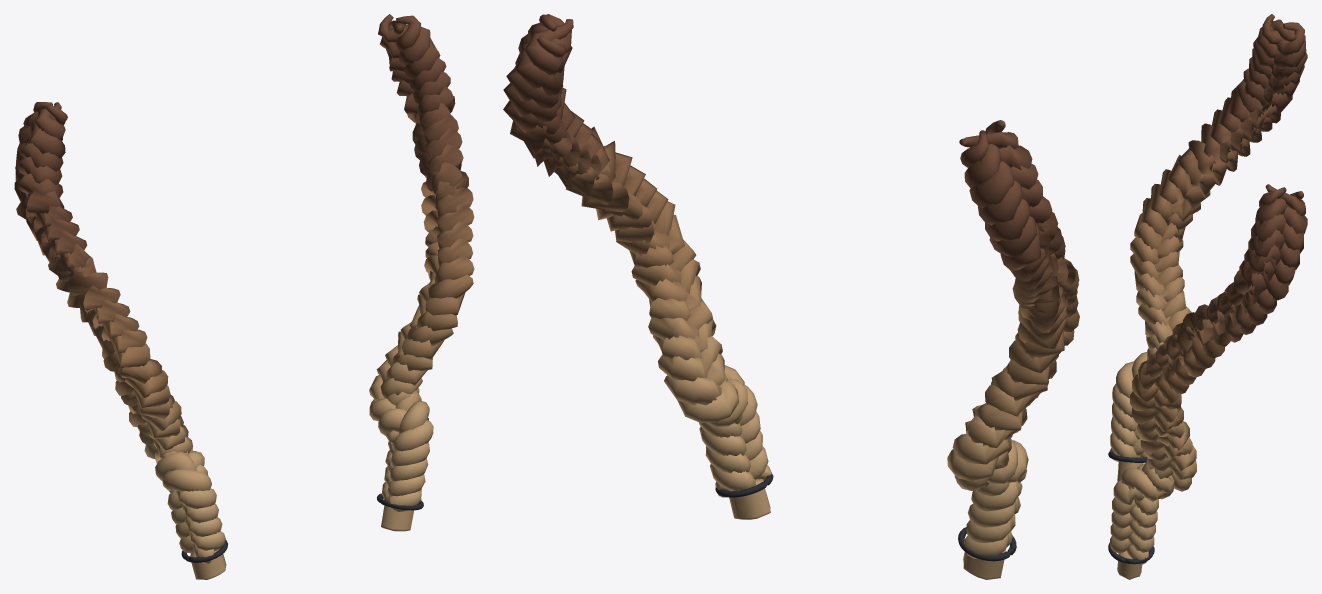
File: Ombre-87a7004c0723253-hair.glb
3 renders of one model, left to right at view 1: azimuth 30°, elevation 25°; view 2: azimuth 150°, elevation 25°; view 3: azimuth 270°, elevation 25°, orthographic. The views are drawn at different scales.
Parts seen in each view (by area): view 1: 226 hairLengths / Hair / chestnut226, 226 hairLengths / Hair / ties226; view 2: 226 hairLengths / Hair / chestnut226, 226 hairLengths / Hair / ties226; view 3: 226 hairLengths / Hair / chestnut226, 226 hairLengths / Hair / ties226.
Part boxes in pixels (bbox=[...]): 226 hairLengths / Hair / chestnut226: bbox=[14, 14, 474, 579]; 226 hairLengths / Hair / ties226: bbox=[181, 493, 423, 562]; 226 hairLengths / Hair / chestnut226: bbox=[503, 14, 1079, 579]; 226 hairLengths / Hair / ties226: bbox=[715, 474, 1016, 561]; 226 hairLengths / Hair / chestnut226: bbox=[1110, 14, 1307, 579]; 226 hairLengths / Hair / ties226: bbox=[1108, 451, 1154, 564].
Bounding box in the file's own units: 1.09 × 1.06 × 0.4449.
Materials: 2 (1 with a texture image).
